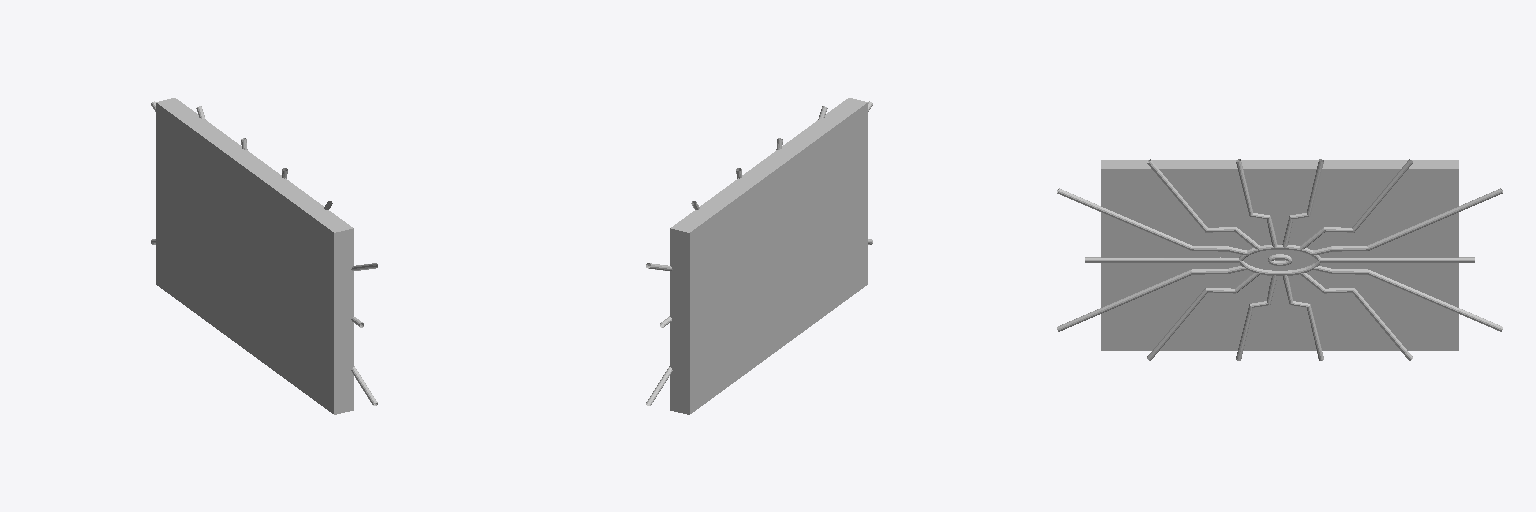
The model's file is door.obj.
3 views of the same model, side by side, from view 1: azimuth 30°, elevation 25°; view 2: azimuth 150°, elevation 25°; view 3: azimuth 270°, elevation 25° (orthographic).
Visible parts, largest first — view 1: Cube, Cube.001, Plane.001; view 2: Cube.001, Cube, Plane; view 3: Cube, Cube.001, Plane.001, Plane.
Boxes of the visible parts, <box> form: Cube: <box>223,163,353,414</box>; Cube.001: <box>156,98,263,348</box>; Plane.001: <box>282,168,377,405</box>; Cube.001: <box>670,163,778,414</box>; Cube: <box>757,98,867,348</box>; Plane: <box>646,168,741,405</box>; Cube: <box>1101,160,1321,350</box>; Cube.001: <box>1280,160,1458,350</box>; Plane.001: <box>1057,159,1320,360</box>; Plane: <box>1282,159,1502,360</box>.
Bounding box in the file's own units: 22.5 × 199 × 400.